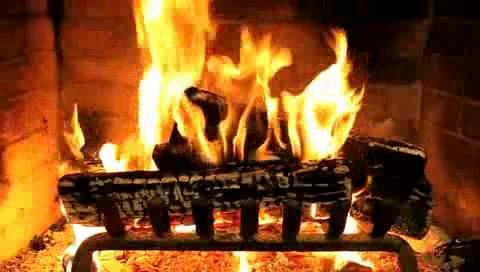fire: (135, 8, 379, 181)
